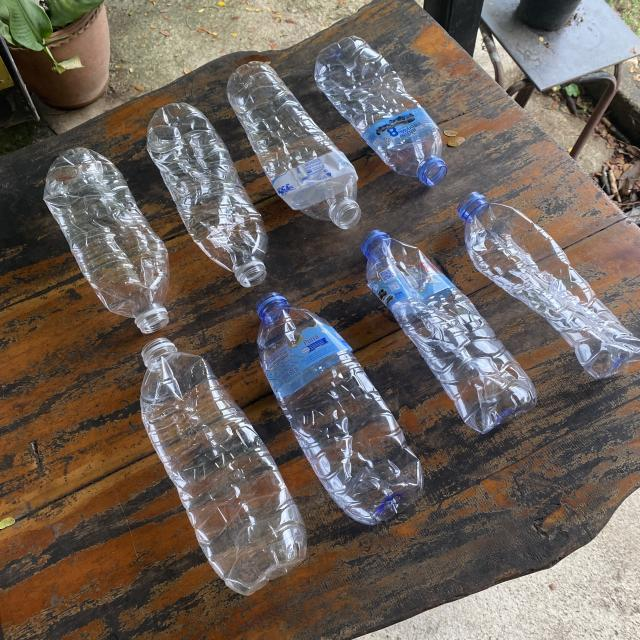plastik: (140, 339, 306, 595), (258, 292, 422, 525), (361, 230, 536, 434), (458, 191, 640, 379), (44, 148, 169, 334), (228, 61, 361, 229), (148, 102, 268, 288), (315, 36, 446, 185)
